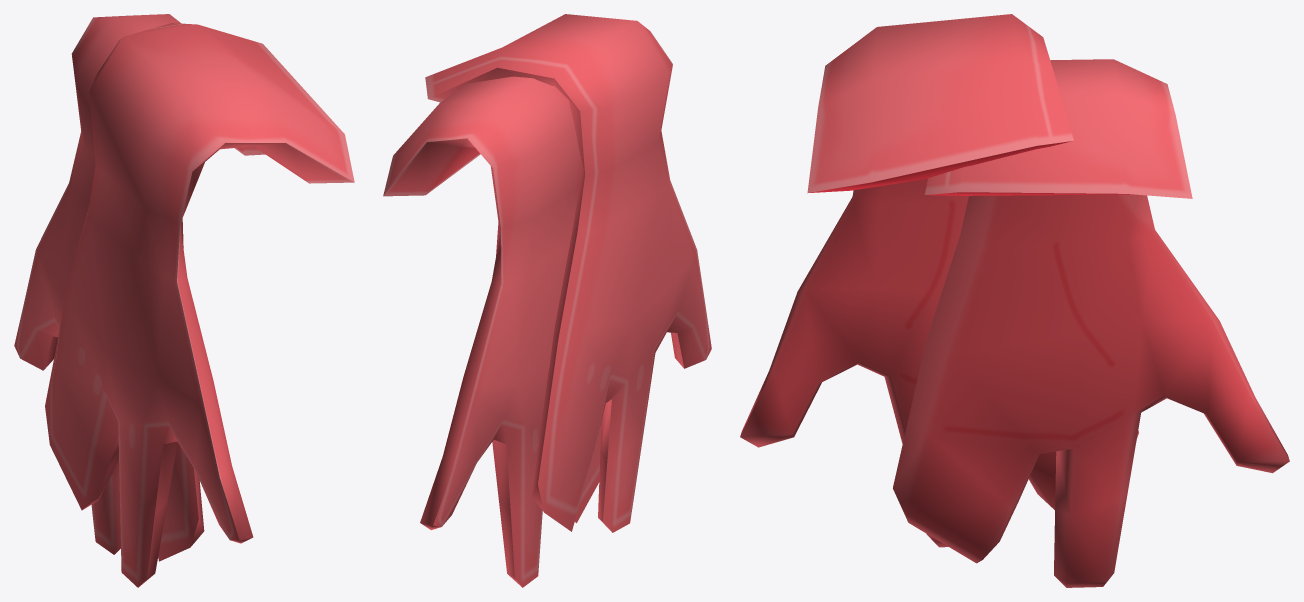
File: cleaners_rubberGloves_1.fbx
3 renders of one model, left to right at view 1: azimuth 30°, elevation 25°; view 2: azimuth 150°, elevation 25°; view 3: azimuth 270°, elevation 25°, orthographic. The views are drawn at different scales.
Parts seen in each view (by area): view 1: cleaners_rubberGloves_1; view 2: cleaners_rubberGloves_1; view 3: cleaners_rubberGloves_1.
Part boxes in pixels (<box>): cleaners_rubberGloves_1: <box>14,14,354,587</box>; cleaners_rubberGloves_1: <box>383,14,711,587</box>; cleaners_rubberGloves_1: <box>740,14,1289,587</box>.
Size of the model in its own units: 6.31 by 16.81 by 14.81.
